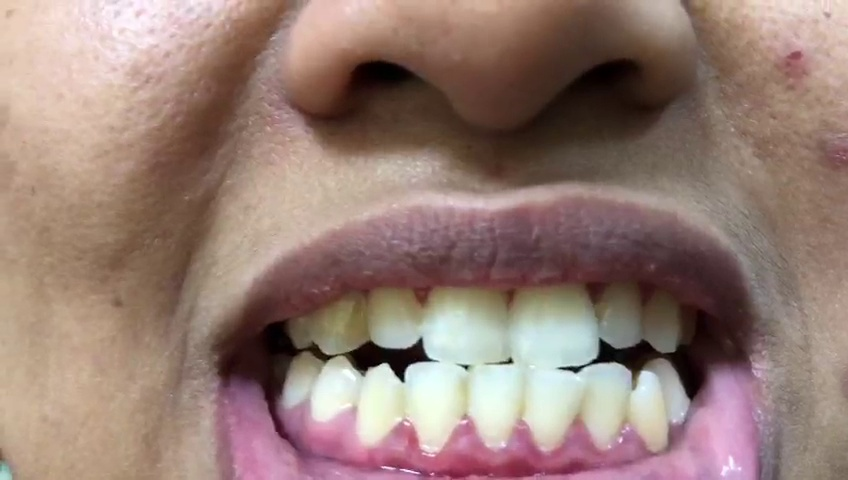1st Premolar: (308, 357, 362, 422), (647, 357, 690, 424)
2nd Premolar: (279, 351, 322, 412)
Canine: (306, 278, 364, 356), (358, 362, 404, 448), (641, 281, 683, 357), (631, 368, 668, 454)
Central Incisor: (421, 276, 510, 365), (513, 278, 599, 368), (467, 363, 524, 454), (524, 366, 580, 455)
Lateral Incisor: (406, 361, 466, 457), (579, 362, 631, 451), (367, 277, 423, 348), (598, 276, 642, 349)
